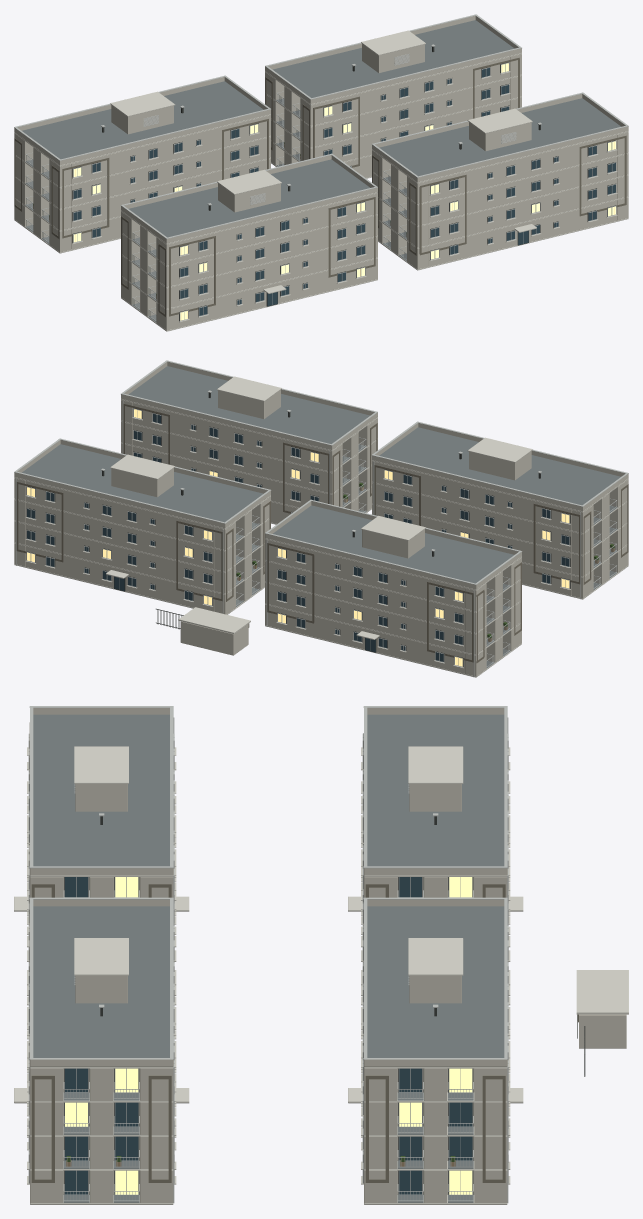
Rendered from monte-das-colinas.glb.
The picture shows the model from 3 angles, top to bottom: view 1: azimuth 30°, elevation 25°; view 2: azimuth 150°, elevation 25°; view 3: azimuth 270°, elevation 25°; orthographic projection. The views are drawn at different scales.
Parts seen in each view (by area): view 1: GEO-T03-acabamento-00-telhado, GEO-T02-acabamento-00-telhado, GEO-T04-acabamento-00-telhado, GEO-T01-acabamento-00-telhado, GEO-T04-paredes-01-reboco, GEO-T04-paredes-02-reboco, GEO-T02-paredes-02-reboco, GEO-T03-paredes-02-reboco, GEO-T01-paredes-02-reboco, GEO-T03-paredes-01-reboco, GEO-T03-paredes-03-reboco, GEO-T01-paredes-03-reboco (+42 smaller); view 2: GEO-T01-acabamento-00-telhado, GEO-T04-acabamento-00-telhado, GEO-T02-acabamento-00-telhado, GEO-T03-acabamento-00-telhado, GEO-T02-paredes-02-reboco, GEO-T04-paredes-02-reboco, GEO-T01-paredes-02-reboco, GEO-T03-paredes-02-reboco, GEO-T02-paredes-01-reboco, GEO-T03-paredes-03-reboco, GEO-T01-paredes-03-reboco, GEO-T01-paredes-01-reboco (+44 smaller); view 3: GEO-T02-acabamento-00-telhado, GEO-T04-acabamento-00-telhado, GEO-T01-acabamento-00-telhado, GEO-T03-acabamento-00-telhado, GEO-T01-acabamento-00-reboco, GEO-T03-acabamento-00-reboco, GEO-T02-acabamento-00-reboco, GEO-T04-acabamento-00-reboco, GEO-T03-paredes-00-reboco, GEO-T01-paredes-00-reboco, GEO-T03-paredes-01-reboco, GEO-T03-paredes-02-reboco (+26 smaller).
Boxes of the visible parts, <box> form: GEO-T03-acabamento-00-telhado: <box>379,98,620,176</box>; GEO-T02-acabamento-00-telhado: <box>22,81,263,159</box>; GEO-T04-acabamento-00-telhado: <box>129,159,369,237</box>; GEO-T01-acabamento-00-telhado: <box>273,20,514,97</box>; GEO-T04-paredes-01-reboco: <box>122,236,377,308</box>; GEO-T04-paredes-02-reboco: <box>122,215,377,286</box>; GEO-T02-paredes-02-reboco: <box>15,137,270,208</box>; GEO-T03-paredes-02-reboco: <box>373,154,628,225</box>; GEO-T01-paredes-02-reboco: <box>265,75,521,147</box>; GEO-T03-paredes-01-reboco: <box>378,175,628,247</box>; GEO-T03-paredes-03-reboco: <box>372,132,628,203</box>; GEO-T01-paredes-03-reboco: <box>265,54,521,125</box>; GEO-T01-acabamento-00-telhado: <box>22,444,263,522</box>; GEO-T04-acabamento-00-telhado: <box>379,427,620,505</box>; GEO-T02-acabamento-00-telhado: <box>273,505,513,583</box>; GEO-T03-acabamento-00-telhado: <box>128,366,369,443</box>; GEO-T02-paredes-02-reboco: <box>265,561,520,632</box>; GEO-T04-paredes-02-reboco: <box>372,483,627,554</box>; GEO-T01-paredes-02-reboco: <box>14,500,269,571</box>; GEO-T03-paredes-02-reboco: <box>121,421,377,493</box>; GEO-T02-paredes-01-reboco: <box>265,582,520,654</box>; GEO-T03-paredes-03-reboco: <box>121,400,377,471</box>; GEO-T01-paredes-03-reboco: <box>14,478,270,549</box>; GEO-T01-paredes-01-reboco: <box>14,521,264,593</box>; GEO-T02-acabamento-00-telhado: <box>367,714,504,866</box>; GEO-T04-acabamento-00-telhado: <box>33,714,169,866</box>; GEO-T01-acabamento-00-telhado: <box>367,906,504,1057</box>; GEO-T03-acabamento-00-telhado: <box>33,906,169,1057</box>; GEO-T01-acabamento-00-reboco: <box>364,899,507,1066</box>; GEO-T03-acabamento-00-reboco: <box>30,899,173,1066</box>; GEO-T02-acabamento-00-reboco: <box>364,708,507,875</box>; GEO-T04-acabamento-00-reboco: <box>30,708,173,875</box>; GEO-T03-paredes-00-reboco: <box>30,1170,173,1202</box>; GEO-T01-paredes-00-reboco: <box>364,1170,507,1202</box>; GEO-T03-paredes-01-reboco: <box>30,1136,173,1168</box>; GEO-T03-paredes-02-reboco: <box>30,1102,173,1134</box>.
Bounding box in the file's own units: 70.09 × 15.55 × 51.55.
